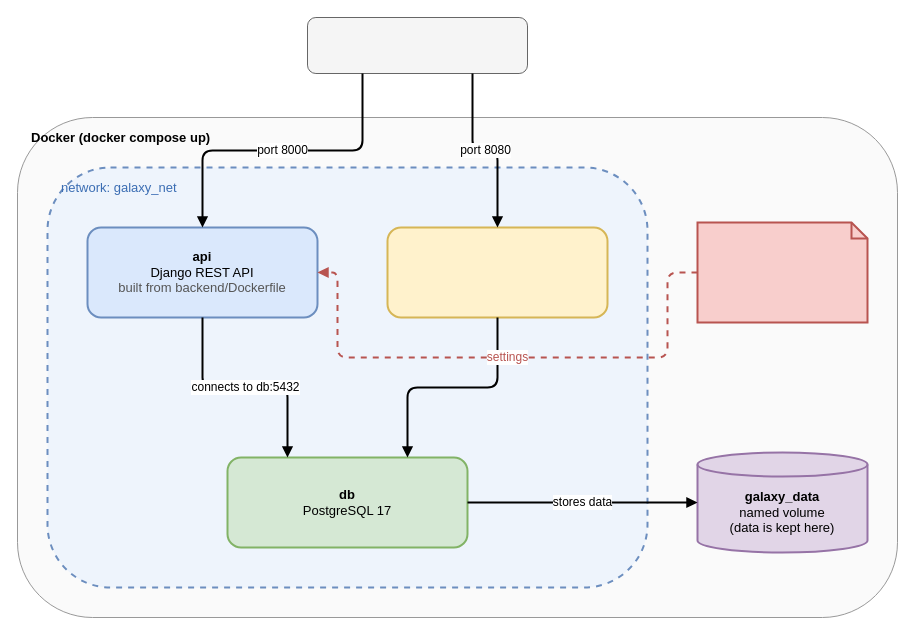
The diagram is 915 pixels wide and 635 high, and some of its shapes have lost their labels. The shapes that lost their labels are listed below. From the top down, each one's centre as x and y in pixels, then its label:
At point (417, 45): "You Browser / Postman".
At point (497, 272): "adminer Database viewer".
At point (782, 272): ".env passwords, ports, secret key".
